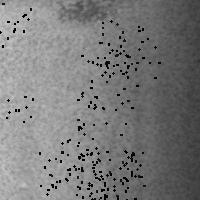pitted_surface: (1, 1, 199, 199), (77, 49, 136, 109), (67, 119, 125, 178), (99, 20, 158, 77), (39, 138, 98, 194), (86, 150, 143, 200), (77, 152, 134, 200), (55, 1, 124, 25), (0, 77, 32, 125), (0, 0, 33, 45)
